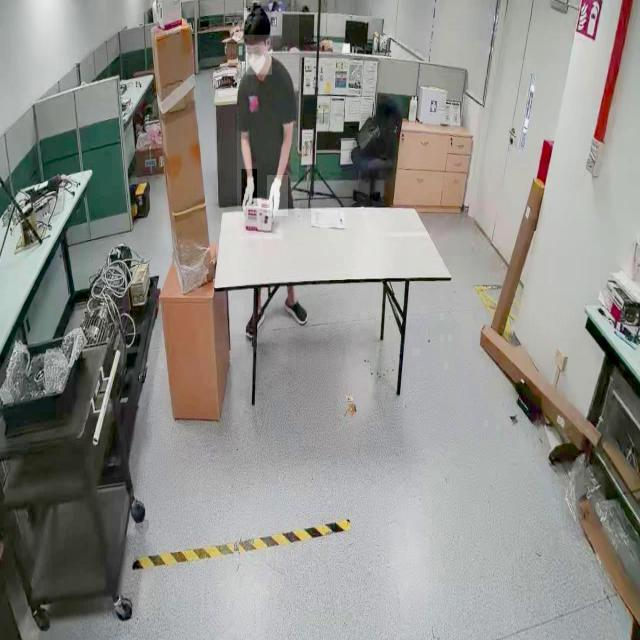face_mask: (246, 46, 272, 76)
hand_glove: (266, 175, 288, 217), (241, 169, 257, 207)
head_nohelmet: (244, 6, 271, 36)
person: (237, 11, 299, 210)
shoes: (244, 301, 266, 344), (282, 294, 308, 327)
